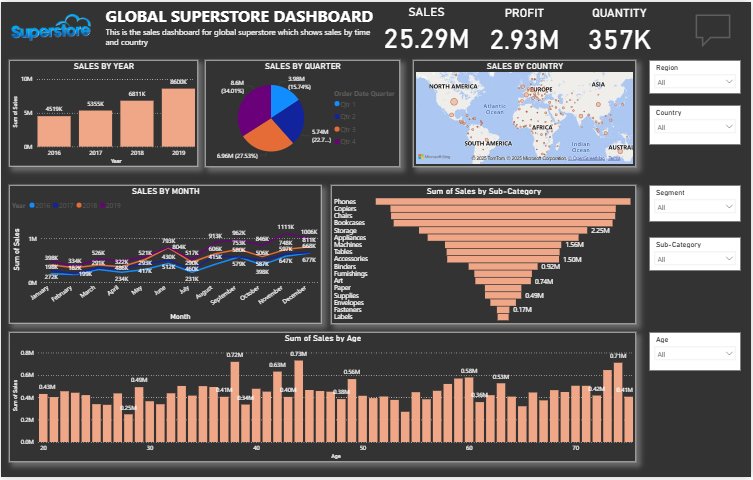

What the dashboard file says about the page in this screenshot:
{"tool":"powerbi","page":{"name":"SALES DASHBOARD","canvas":[1280,720],"ordinal":0},"visuals":[{"type":"columnChart","title":"SALES BY YEAR","fields":{"Category":["Orders.Order Date.Variation.Date Hierarchy.Year"],"Y":["Sum(Orders.Sales)"]},"box":[15.6,115.7,582.6,303.5],"z":0},{"type":"pieChart","title":"SALES BY QUARTER","fields":{"Category":["Orders.Order Date.Variation.Date Hierarchy.Quarter"],"Y":["Sum(Orders.Sales)"]},"box":[622.5,115.7,456.2,303.5],"z":1000},{"type":"lineChart","title":"SALES BY MONTH","fields":{"Category":["Orders.Order Date.Variation.Date Hierarchy.Month"],"Y":["Sum(Orders.Sales)"],"Series":["Orders.Order Date.Variation.Date Hierarchy.Year"]},"box":[15.6,428.9,624.4,277.2],"z":2000},{"type":"map","title":"SALES BY COUNTRY","fields":{"Category":["Orders.Country"],"Size":["Sum(Orders.Sales)"]},"box":[653.6,428.9,425,277.2],"z":3000},{"type":"slicer","fields":{"Values":["Orders.Region"]},"box":[1094.3,141,174.1,69.1],"z":4000},{"type":"slicer","fields":{"Values":["Orders.Country"]},"box":[1094.2,231.5,174.1,78.8],"z":5000},{"type":"slicer","fields":{"Values":["Orders.Segment"]},"box":[1094.2,329.7,174.1,73.9],"z":6000},{"type":"textbox","box":[184.8,8.8,499,92.4],"z":7000},{"type":"image","box":[29.2,8.8,155.6,87.5],"z":8000},{"type":"actionButton","box":[1146.7,32.1,86.6,83.6],"z":9000},{"type":"card","title":"SALES","fields":{"Values":["Sum(Orders.Sales)"]},"box":[673.1,8.8,143,92.4],"z":10000},{"type":"card","title":"PROFIT","fields":{"Values":["Sum(Orders.Profit)"]},"box":[816,8.8,143,92.4],"z":11000},{"type":"card","title":"QUANTITY","fields":{"Values":["Sum(Orders.Quantity)"]},"box":[959,8.8,143,92.4],"z":12000}]}

Visuals, with their boxes on the page's 1280x720 design canvas (x1, y1, x2, y2). These are canvas units, not pixel positions in the 753x480 screenshot, which may show the page scaled, cropped or inside an application window:
"SALES BY YEAR" columnChart: bbox=(16, 116, 598, 419)
"SALES BY QUARTER" pieChart: bbox=(622, 116, 1079, 419)
"SALES BY MONTH" lineChart: bbox=(16, 429, 640, 706)
"SALES BY COUNTRY" map: bbox=(654, 429, 1079, 706)
slicer - Orders.Region: bbox=(1094, 141, 1268, 210)
slicer - Orders.Country: bbox=(1094, 232, 1268, 310)
slicer - Orders.Segment: bbox=(1094, 330, 1268, 404)
textbox: bbox=(185, 9, 684, 101)
image: bbox=(29, 9, 185, 96)
actionButton: bbox=(1147, 32, 1233, 116)
"SALES" card: bbox=(673, 9, 816, 101)
"PROFIT" card: bbox=(816, 9, 959, 101)
"QUANTITY" card: bbox=(959, 9, 1102, 101)
